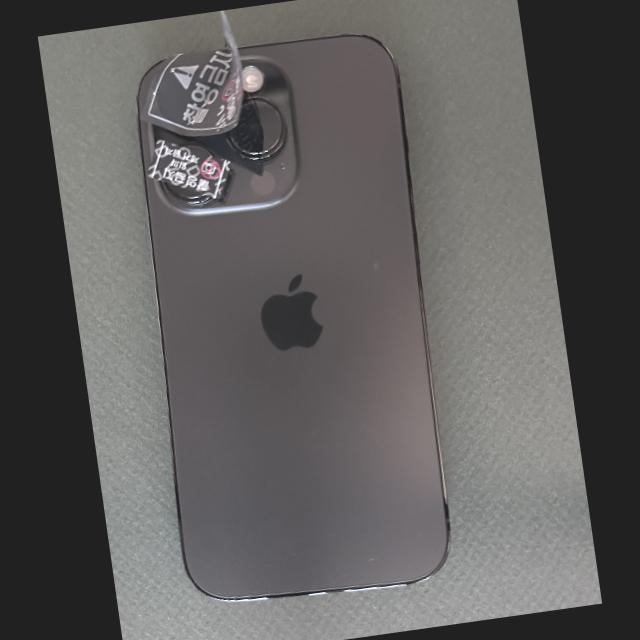lens: (225, 95, 286, 161), (162, 181, 215, 206)
phone: (139, 36, 449, 600)
sticker: (140, 10, 244, 137), (147, 139, 232, 200)
